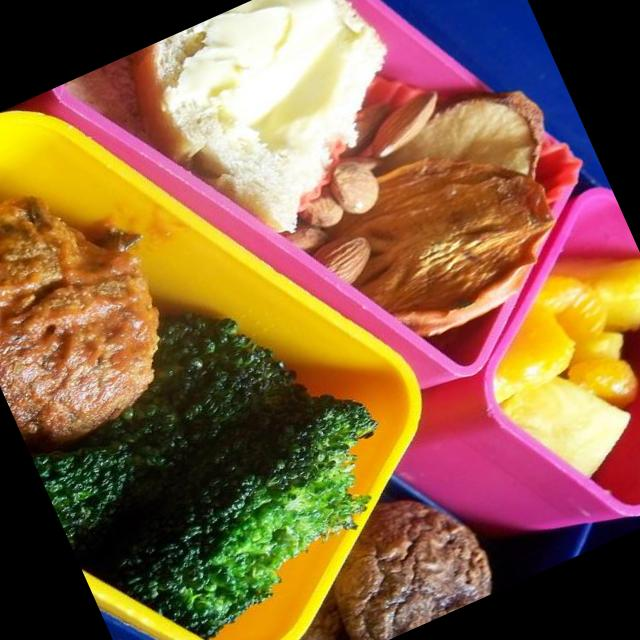bowl: (0, 0, 503, 640), (9, 0, 640, 505), (325, 184, 640, 600)
broccoli: (6, 250, 432, 640)
orange: (463, 290, 583, 404), (541, 231, 640, 356), (530, 262, 618, 358), (567, 344, 640, 422)
